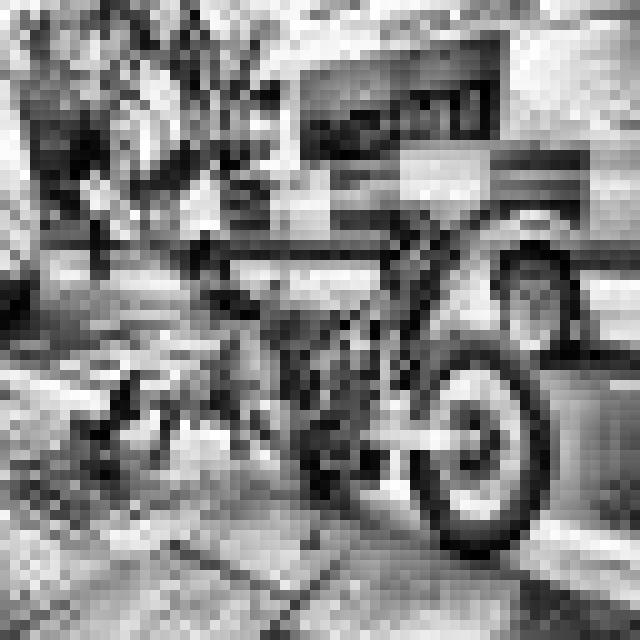mopeds: (177, 238, 603, 566)
